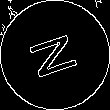N_E: (24, 28, 86, 82)
